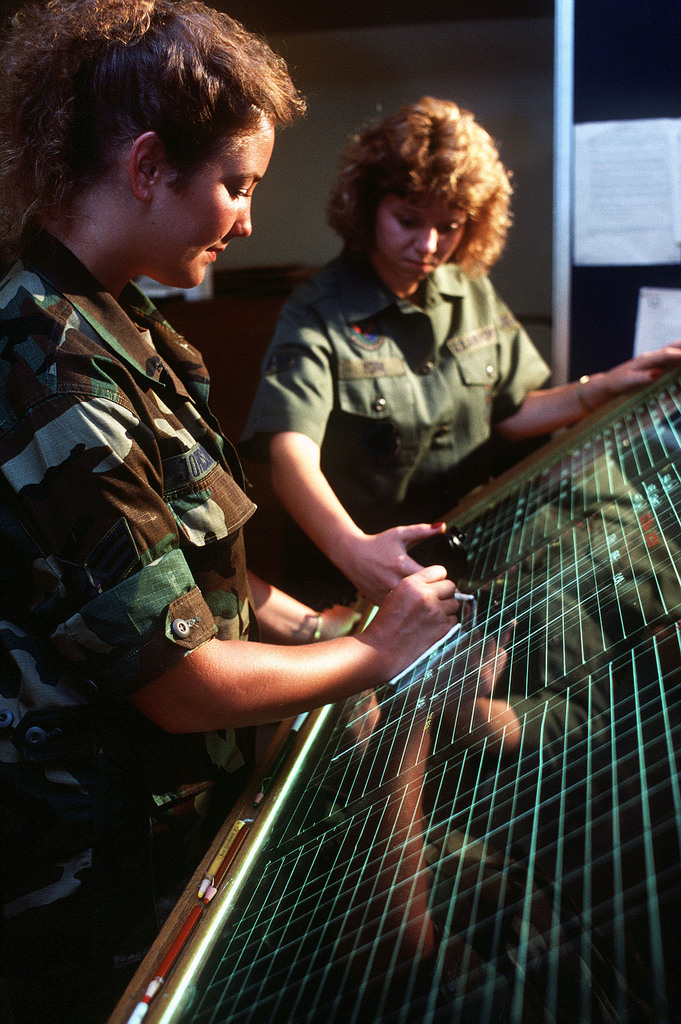Person: (0, 0, 459, 1023), (240, 94, 681, 605)
